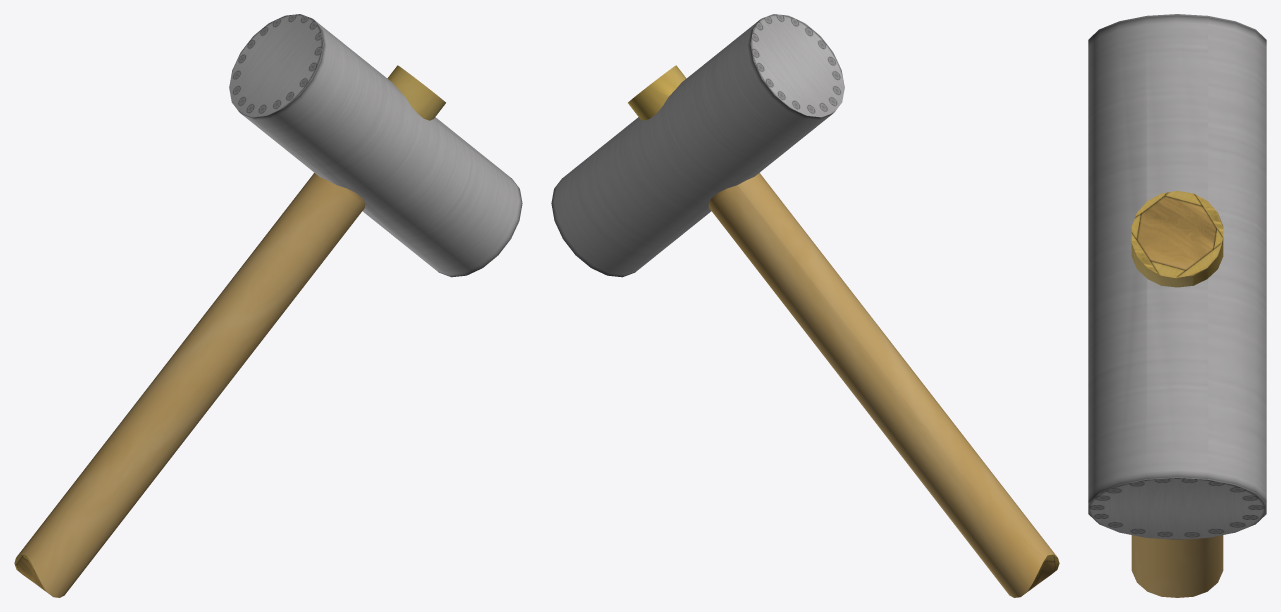
Rendered from Hamer.obj.
3 views of the same model, side by side, from view 1: azimuth 30°, elevation 25°; view 2: azimuth 150°, elevation 25°; view 3: azimuth 270°, elevation 25° (orthographic). The views are drawn at different scales.
Parts seen in each view (by area): view 1: Hamer; view 2: Hamer; view 3: Hamer.
Boxes of the visible parts, box(x1,y1,x2,y2) form: Hamer: box(14, 14, 522, 597); Hamer: box(551, 14, 1059, 597); Hamer: box(1088, 14, 1266, 597).
Bounding box in the file's own units: 1.82 × 1.82 × 0.3814.
Materials: 1 (1 with a texture image).
